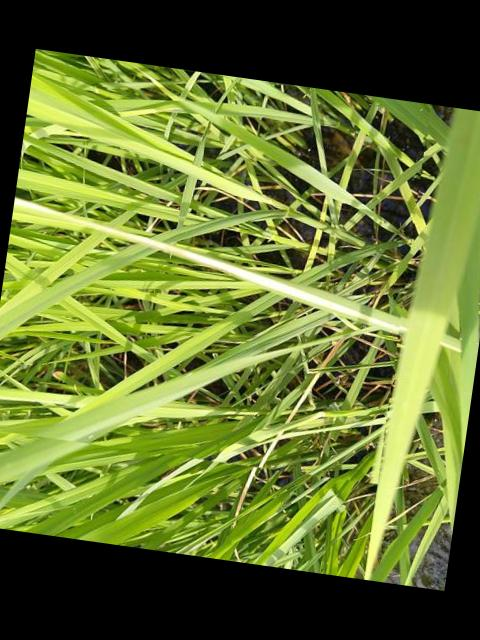Leaf Blight: (14, 196, 409, 331)
